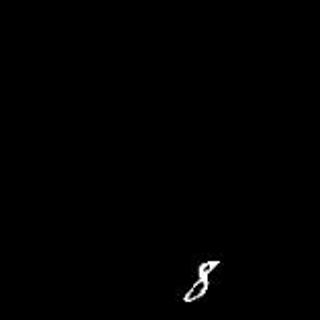eight: (180, 258, 221, 306)
